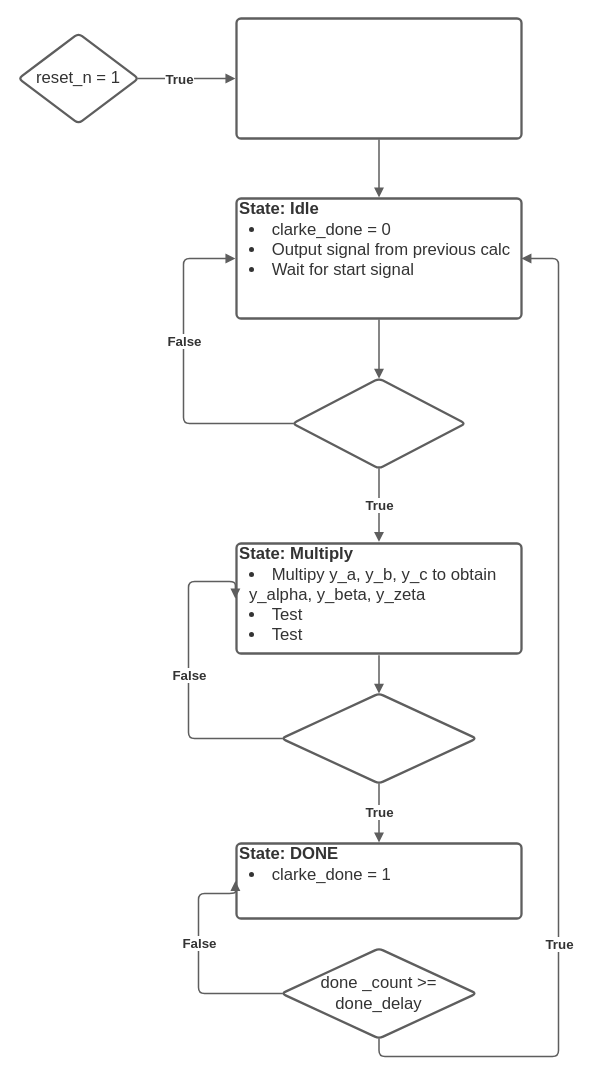
The diagram is 590 pixels wide and 1082 high, and some of its shapes have lost their labels. Each missing label, with the centre of its shape:
"clarke_start = 1" goes at (x=378, y=423).
"mult _count >= mult_delay" goes at (x=378, y=738).
"Reset Set all internal registers/counters to zero Set all outputs to zero" goes at (x=378, y=78).
